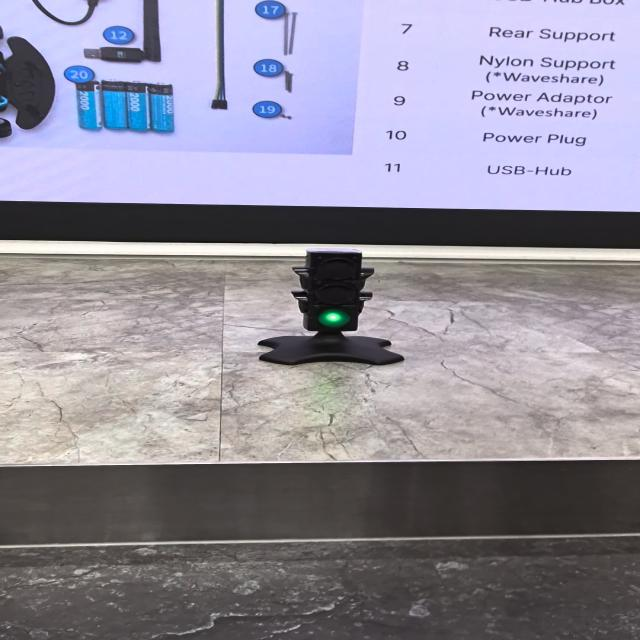green_light: (318, 310, 350, 327)
